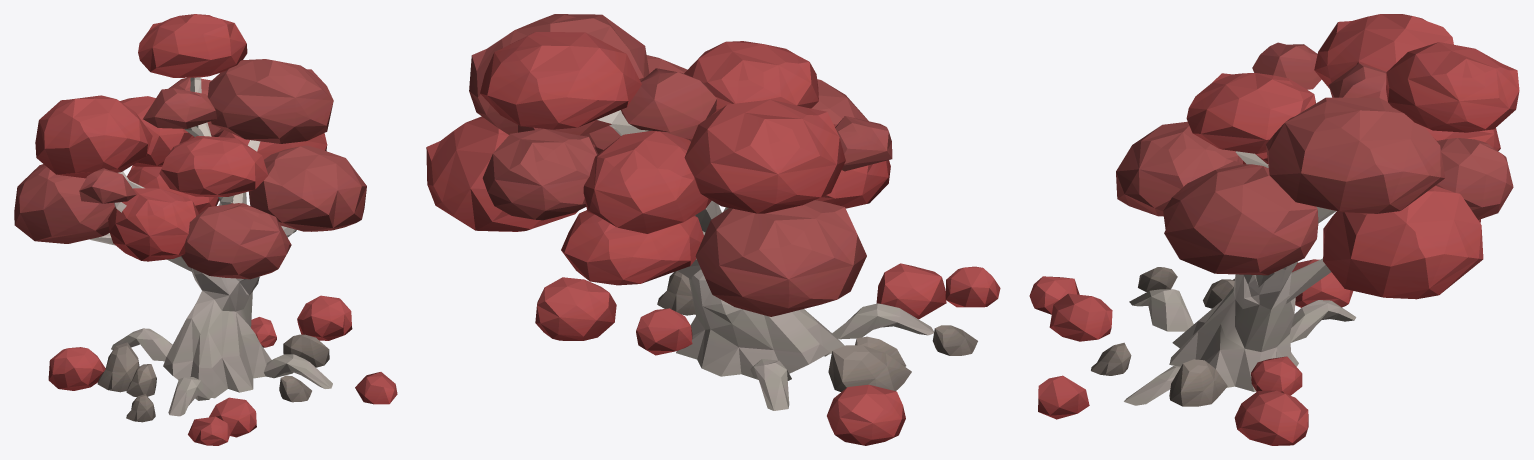
File: miniEncounterPrimordialOak.fbx
The picture shows the model from 3 angles, left to right: view 1: azimuth 30°, elevation 25°; view 2: azimuth 150°, elevation 25°; view 3: azimuth 270°, elevation 25°; orthographic projection. The views are drawn at different scales.
Parts seen in each view (by area): view 1: miniEncounterPrimordialOak; view 2: miniEncounterPrimordialOak; view 3: miniEncounterPrimordialOak.
Part boxes in pixels (x1,y1,x2,y2): miniEncounterPrimordialOak: (14,14,397,445); miniEncounterPrimordialOak: (426,14,1000,445); miniEncounterPrimordialOak: (1029,14,1519,445).
Size of the model in its own units: 3.05 by 2.74 by 3.42.
1 material, 1 textured.
